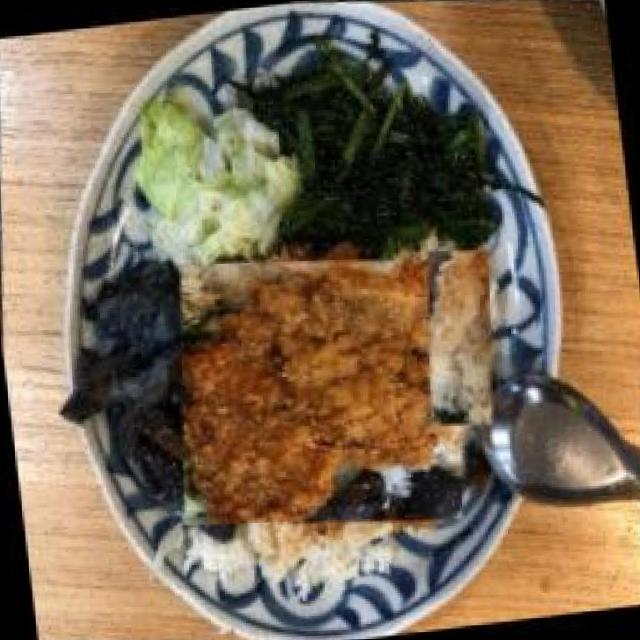chinese_cabbage: (119, 73, 299, 274)
fried_chicken: (152, 224, 486, 558)
rice: (407, 240, 509, 432), (209, 510, 402, 600)
water_spinach: (257, 40, 514, 277)
